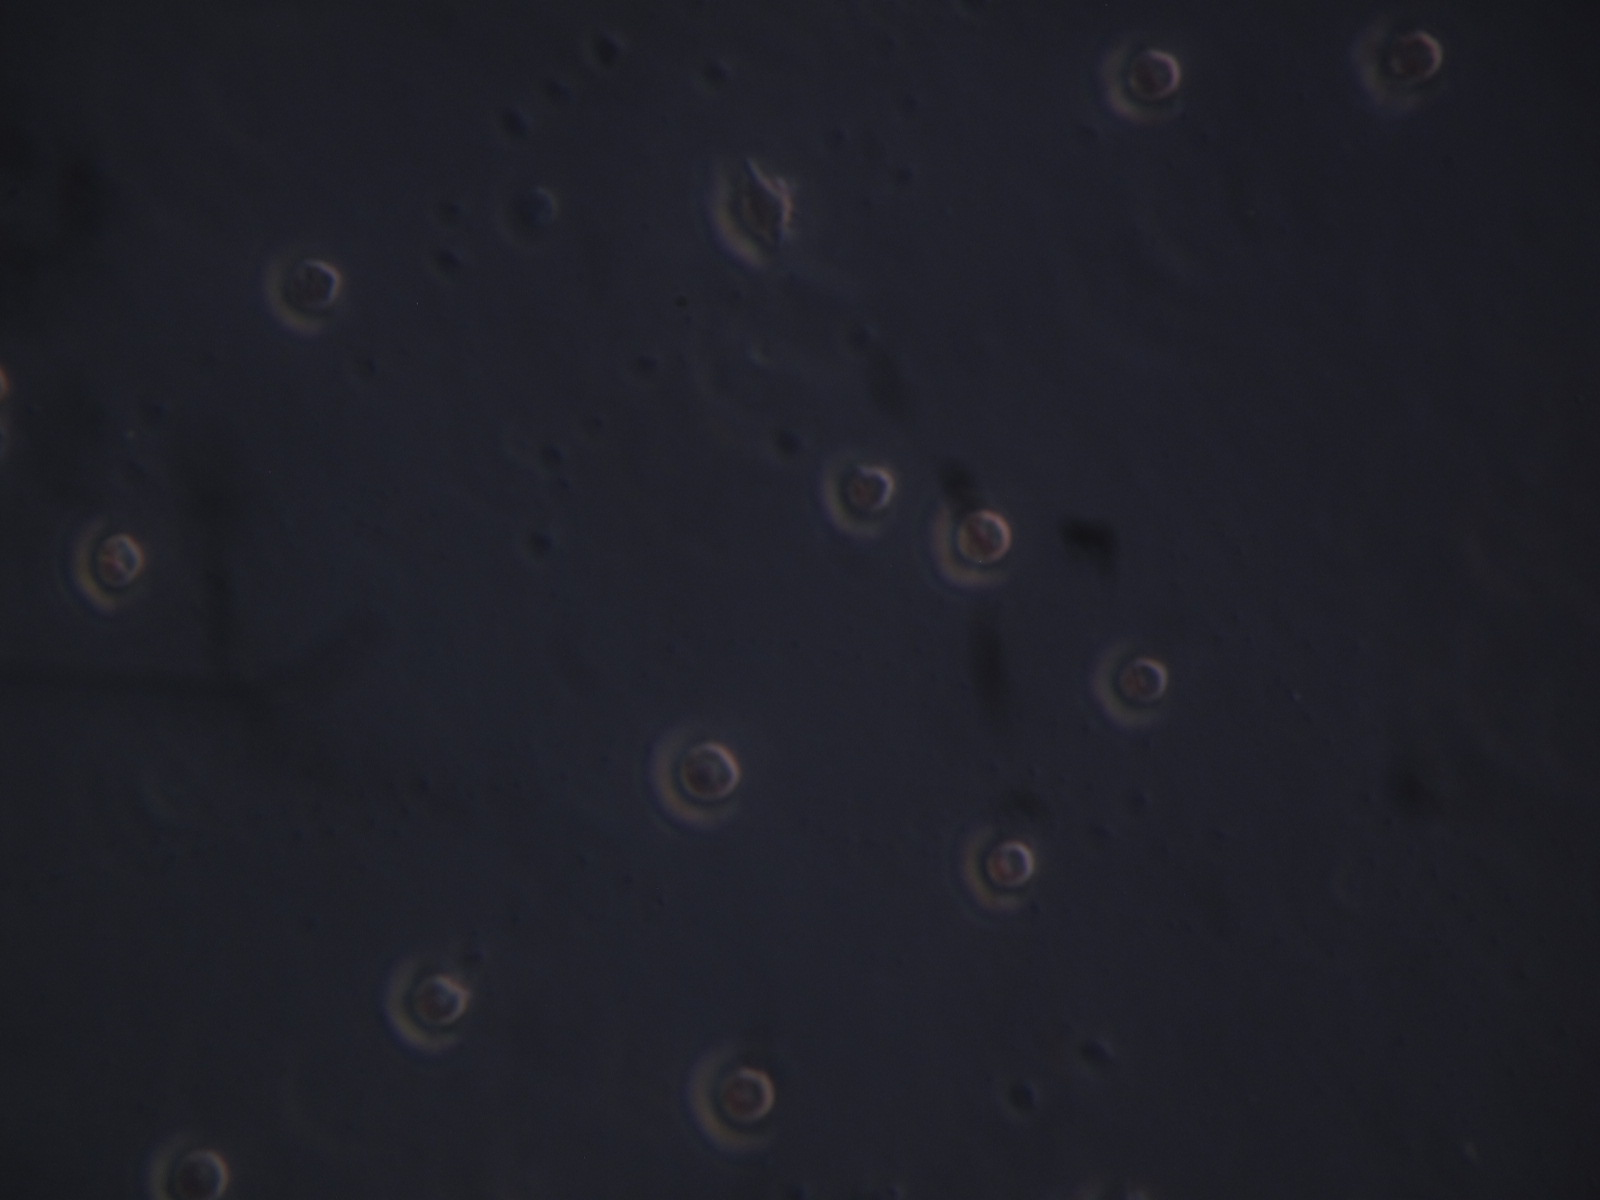hemo: (650, 713, 743, 829), (692, 1042, 779, 1155), (386, 953, 471, 1056), (935, 497, 1020, 592), (960, 821, 1038, 916), (1356, 26, 1441, 113), (1101, 40, 1182, 126), (820, 453, 900, 538), (73, 522, 145, 613), (265, 248, 343, 332), (714, 169, 790, 253), (1095, 645, 1170, 729), (152, 1133, 229, 1200)
